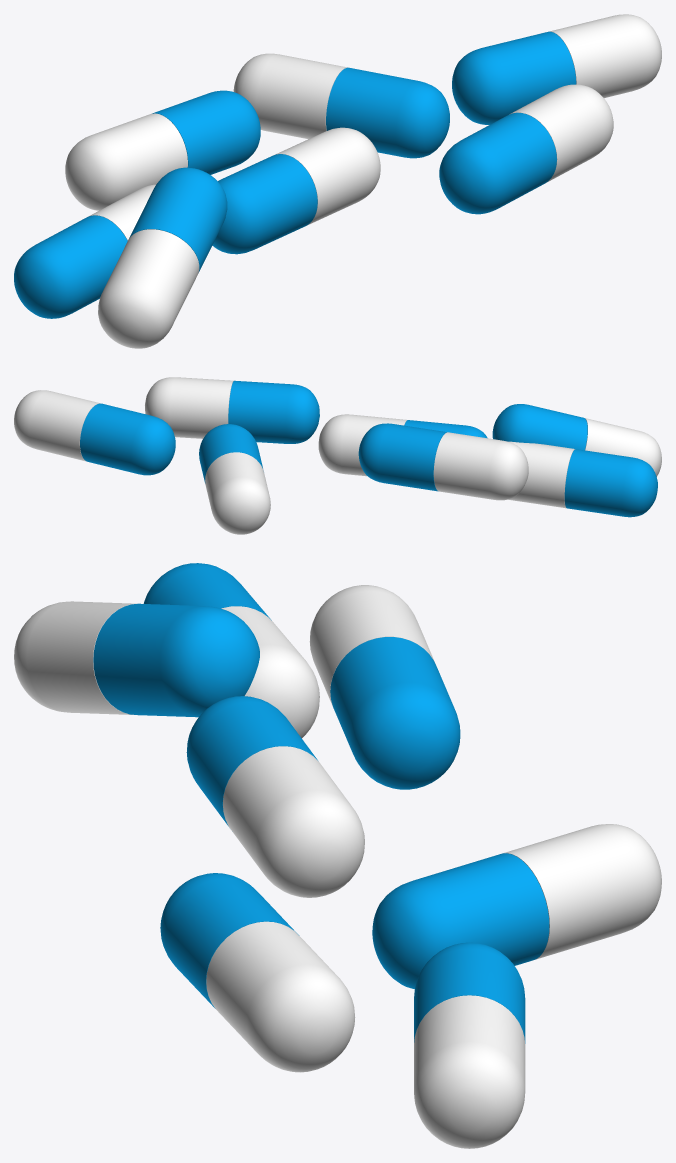
The model's file is Pills.fbx.
3 views of the same model, one above another, from view 1: azimuth 30°, elevation 25°; view 2: azimuth 150°, elevation 25°; view 3: azimuth 270°, elevation 25° (orthographic). The views are drawn at different scales.
Parts seen in each view (by area): view 1: Cylinder009, Cylinder004, Cylinder017, Cylinder011, Cylinder007, Cylinder013, Cylinder015; view 2: Cylinder011, Cylinder004, Cylinder007, Cylinder015, Cylinder009, Cylinder017, Cylinder013; view 3: Cylinder009, Cylinder017, Cylinder007, Cylinder013, Cylinder011, Cylinder004, Cylinder015.
Boxes of the visible parts, x1,y1,x2,y2 form: Cylinder009: (233, 53, 449, 158); Cylinder004: (452, 14, 661, 124); Cylinder017: (98, 167, 227, 348); Cylinder011: (65, 90, 260, 210); Cylinder007: (439, 84, 613, 214); Cylinder013: (212, 127, 380, 254); Cylinder015: (14, 184, 155, 318); Cylinder011: (358, 423, 528, 500); Cylinder004: (14, 390, 175, 475); Cylinder007: (145, 377, 319, 443); Cylinder015: (508, 441, 657, 517); Cylinder009: (199, 424, 270, 534); Cylinder017: (492, 404, 661, 476); Cylinder013: (318, 414, 487, 476); Cylinder009: (372, 824, 661, 989); Cylinder017: (14, 601, 259, 717); Cylinder007: (160, 873, 355, 1072); Cylinder013: (186, 696, 364, 897); Cylinder011: (309, 585, 460, 789); Cylinder004: (414, 942, 525, 1148); Cylinder015: (143, 563, 319, 738).
Bounding box in the file's own units: 34.73 × 5.26 × 18.64.
